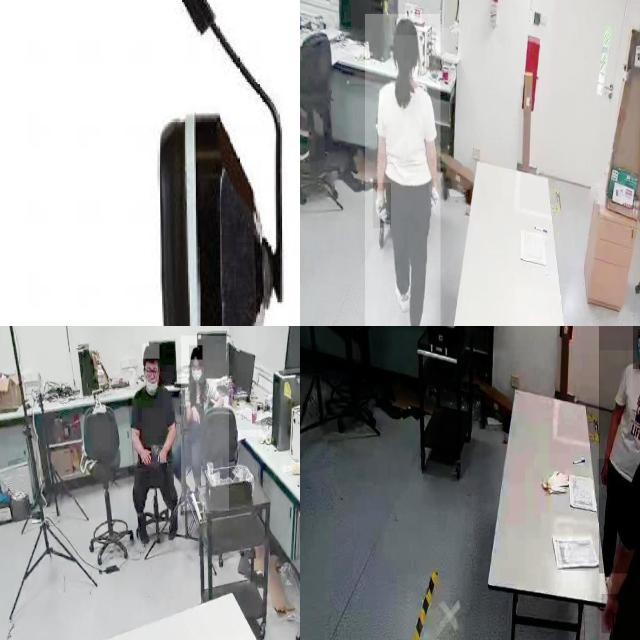Ear-protection: (0, 0, 297, 326)
face_mask: (633, 326, 640, 369), (191, 366, 205, 384)
face_nomask: (144, 364, 160, 387)
hand_glove: (373, 183, 391, 229), (429, 176, 443, 208)
hand_noglove: (602, 594, 620, 634), (597, 459, 609, 485), (140, 448, 152, 466), (191, 408, 201, 426), (157, 446, 167, 464)
head_nohelmet: (392, 18, 418, 36), (142, 344, 160, 359), (189, 346, 203, 360)
person: (365, 14, 441, 326), (599, 350, 640, 640), (128, 344, 182, 554), (598, 326, 640, 573), (181, 336, 229, 512)
shoes: (392, 273, 413, 317)
